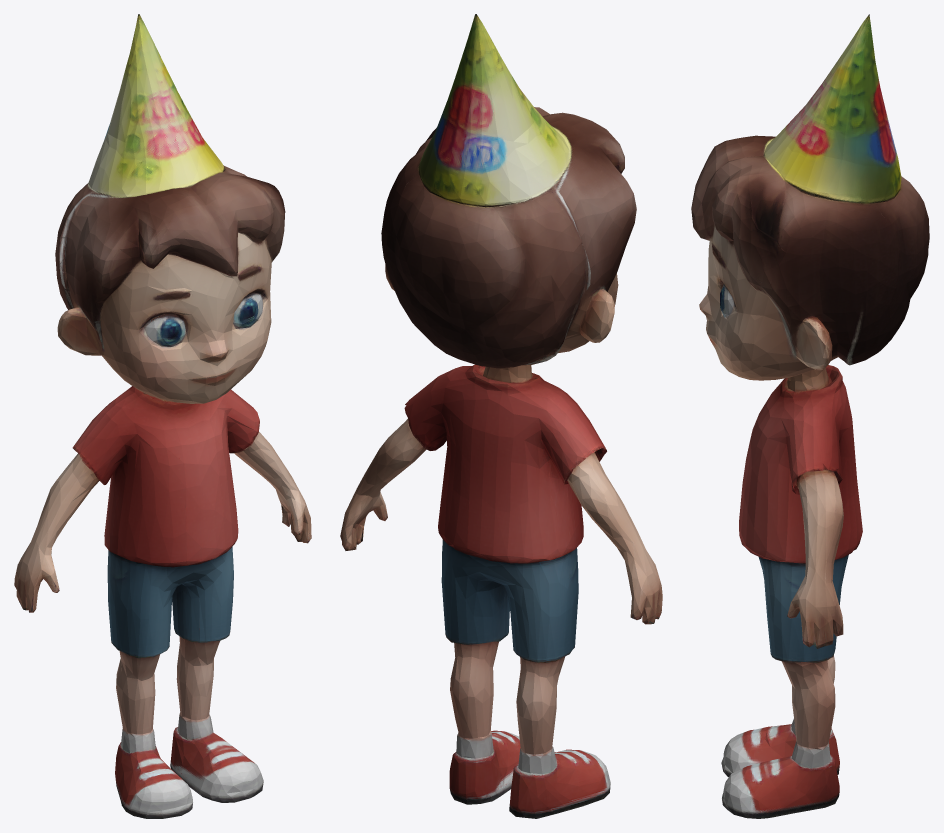
Rendered from birthdaykid (1).fbx.
3 views of the same model, side by side, from view 1: azimuth 30°, elevation 25°; view 2: azimuth 150°, elevation 25°; view 3: azimuth 270°, elevation 25° (orthographic). The views are drawn at different scales.
Parts seen in each view (by area): view 1: geometry_0; view 2: geometry_0; view 3: geometry_0.
Part boxes in pixels (left/top/right/bottom): geometry_0: left=14, top=14, right=311, bottom=818; geometry_0: left=340, top=14, right=662, bottom=818; geometry_0: left=691, top=14, right=929, bottom=818.
Bounding box in the file's own units: 0.3997 × 0.9997 × 0.2798.
1 material, 1 textured.
